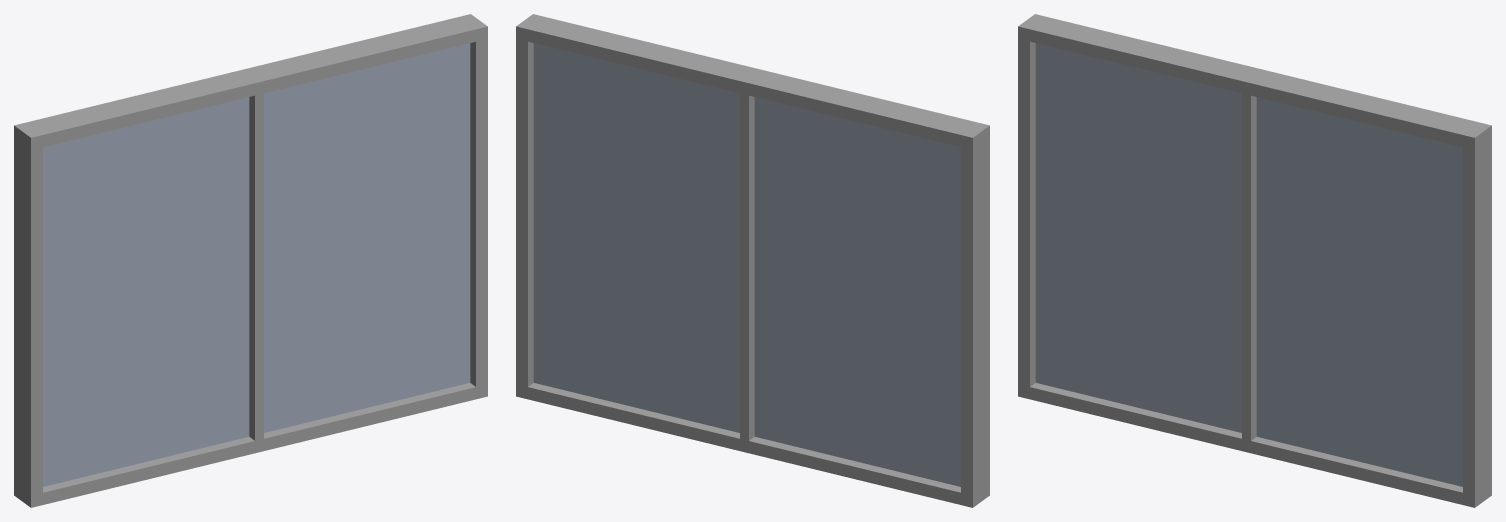
File: Neo_Window_02.fbx
3 views of the same model, side by side, from view 1: azimuth 30°, elevation 25°; view 2: azimuth 150°, elevation 25°; view 3: azimuth 330°, elevation 25° (orthographic).
Parts seen in each view (by area): view 1: Neo_Window_02_Glass_03, Neo_Window_02; view 2: Neo_Window_02_Glass_03, Neo_Window_02; view 3: Neo_Window_02_Glass_03, Neo_Window_02.
Boxes of the visible parts, x1,y1,x2,y2 form: Neo_Window_02_Glass_03: (43, 43, 470, 486); Neo_Window_02: (14, 14, 487, 507); Neo_Window_02_Glass_03: (533, 43, 960, 486); Neo_Window_02: (516, 14, 989, 507); Neo_Window_02_Glass_03: (1035, 43, 1462, 486); Neo_Window_02: (1018, 14, 1491, 507).
Bounding box in the file's own units: 194 × 150 × 12.5.
